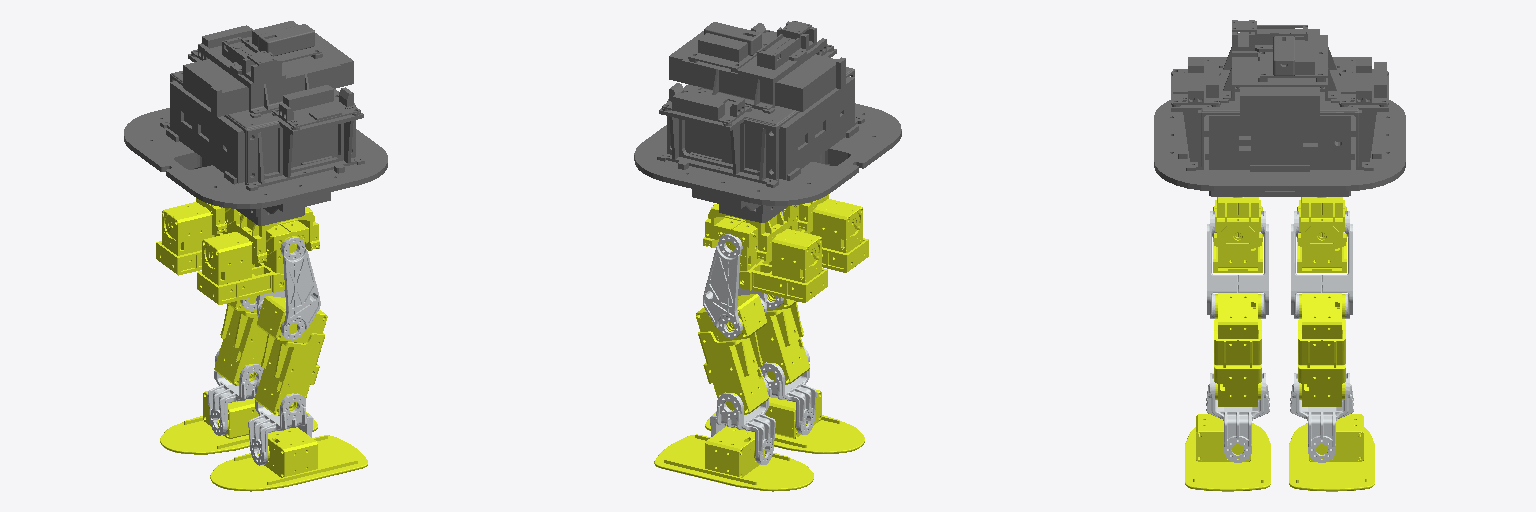
robot.urdf — exhx5_w_b_16:
<?xml version="1.0" encoding="utf-8"?>
<!-- This URDF was automatically created by SolidWorks to URDF Exporter! Originally created by [author] ([email redacted]) 
     Commit Version: 1.5.1-0-g916b5db  Build Version: 1.5.7152.31018
     For more information, please see http://wiki.ros.org/sw_urdf_exporter -->
<robot
  name="exhx5_w_b_16">
  <link
    name="body_link">
    <inertial>
      <origin
        xyz="0.00043545 0.00025536 0.10071"
        rpy="0 0 0" />
      <mass
        value="1.8238" />
      <inertia
        ixx="0.0025905"
        ixy="-5.6852E-06"
        ixz="-1.3106E-05"
        iyy="0.0024595"
        iyz="-1.261E-06"
        izz="0.0046407" />
    </inertial>
    <visual>
      <origin
        xyz="0 0 0"
        rpy="0 0 0" />
      <geometry>
        <mesh
          filename="../meshes/body_link.STL" />
      </geometry>
      <material
        name="">
        <color
          rgba="0.49804 0.49804 0.49804 1" />
      </material>
    </visual>
    <collision>
      <origin
        xyz="0 0 0"
        rpy="0 0 0" />
      <geometry>
        <mesh
          filename="../meshes/body_link.STL" />
      </geometry>
    </collision>
  </link>

  <link
    name="imu_link">
    <inertial>
      <origin
        xyz="-0.008387 1.336E-17 -0.0069463"
        rpy="0 0 0" />
      <mass
        value="0.0062931" />
      <inertia
        ixx="3.2242E-07"
        ixy="3.3527E-22"
        ixz="-6.9193E-08"
        iyy="9.2229E-07"
        iyz="-8.0392E-22"
        izz="1.1018E-06" />
    </inertial>
    <visual>
      <origin
        xyz="0 0 0"
        rpy="0 0 0" />
      <geometry>
        <mesh
          filename="../meshes/imu_link.STL" />
      </geometry>
      <material
        name="">
        <color
          rgba="0.79216 0.81961 0.93333 1" />
      </material>
    </visual>
    <collision>
      <origin
        xyz="0 0 0"
        rpy="0 0 0" />
      <geometry>
        <mesh
          filename="../meshes/imu_link.STL" />
      </geometry>
    </collision>
  </link>
  <joint
    name="imu"
    type="fixed">
    <origin
      xyz="0 0 0.0492"
      rpy="0 0 0" />
    <parent
      link="body_link" />
    <child
      link="imu_link" />
    <axis
      xyz="0 0 0" />
    <limit
      lower="-3.14"
      upper="3.14"
      effort="4"
      velocity="4" />
  </joint>
  <link
    name="l_hip_g_link">
    <inertial>
      <origin
        xyz="-0.0043797 -8.6604E-08 0.011813"
        rpy="0 0 0" />
      <mass
        value="0.061008" />
      <inertia
        ixx="1.167E-05"
        ixy="7.1767E-11"
        ixz="9.1442E-09"
        iyy="2.2342E-05"
        iyz="2.5177E-11"
        izz="2.4892E-05" />
    </inertial>
    <visual>
      <origin
        xyz="0 0 0"
        rpy="0 0 0" />
      <geometry>
        <mesh
          filename="../meshes/l_hip_g_link.STL" />
      </geometry>
      <material
        name="">
        <color
          rgba="0.9451 1 0.18431 1" />
      </material>
    </visual>
    <collision>
      <origin
        xyz="0 0 0"
        rpy="0 0 0" />
      <geometry>
        <mesh
          filename="../meshes/l_hip_g_link.STL" />
      </geometry>
    </collision>
  </link>
  <joint
    name="l_hip_g"
    type="fixed">
    <origin
      xyz="0 .035 0"
      rpy="0 0 0" />
    <parent
      link="body_link" />
    <child
      link="l_hip_g_link" />
    <axis
      xyz="0 0 0" />
  </joint>
  <link
    name="l_hip_roll_link">
    <inertial>
      <origin
        xyz="0.013831 0.00033457 0.025453"
        rpy="0 0 0" />
      <mass
        value="0.2969" />
      <inertia
        ixx="7.8136E-05"
        ixy="7.265E-07"
        ixz="-6.9809E-08"
        iyy="9.2183E-05"
        iyz="-5.6881E-11"
        izz="7.1034E-05" />
    </inertial>
    <visual>
      <origin
        xyz="0 0 0"
        rpy="0 0 0" />
      <geometry>
        <mesh
          filename="../meshes/l_hip_roll_link.STL" />
      </geometry>
      <material
        name="">
        <color
          rgba="0.9451 1 0.18431 1" />
      </material>
    </visual>
    <collision>
      <origin
        xyz="0 0 0"
        rpy="0 0 0" />
      <geometry>
        <mesh
          filename="../meshes/l_hip_roll_link.STL" />
      </geometry>
    </collision>
  </link>
  <joint
    name="l_hip_roll"
    type="revolute">
    <origin
      xyz="0 0 0"
      rpy="3.1416 1.5708 0" />
    <parent
      link="l_hip_g_link" />
    <child
      link="l_hip_roll_link" />
    <axis
      xyz="0 0 1" />
    <limit
      lower="-3.14"
      upper="3.14"
      effort="4"
      velocity="4" />
  </joint>
  <link
    name="l_hip_pitch_link">
    <inertial>
      <origin
        xyz="0.041225 -0.007321 -5.0713E-08"
        rpy="0 0 0" />
      <mass
        value="0.051592" />
      <inertia
        ixx="2.7959E-05"
        ixy="2.0752E-06"
        ixz="-8.0934E-11"
        iyy="4.8156E-05"
        iyz="3.6317E-11"
        izz="2.9604E-05" />
    </inertial>
    <visual>
      <origin
        xyz="0 0 0"
        rpy="0 0 0" />
      <geometry>
        <mesh
          filename="../meshes/l_hip_pitch_link.STL" />
      </geometry>
      <material
        name="">
        <color
          rgba="0.89804 0.91765 0.92941 1" />
      </material>
    </visual>
    <collision>
      <origin
        xyz="0 0 0"
        rpy="0 0 0" />
      <geometry>
        <mesh
          filename="../meshes/l_hip_pitch_link.STL" />
      </geometry>
    </collision>
  </link>
  <joint
    name="l_hip_pitch"
    type="revolute">
    <origin
      xyz="0 0 0"
      rpy="1.5708 0 0" />
    <parent
      link="l_hip_roll_link" />
    <child
      link="l_hip_pitch_link" />
    <axis
      xyz="0 0 1" />
    <limit
      lower="-3.14"
      upper="3.14"
      effort="4"
      velocity="4" />
  </joint>
  <link
    name="l_knee_link">
    <inertial>
      <origin
        xyz="0.033756 -0.0084189 -6.6115E-09"
        rpy="0 0 0" />
      <mass
        value="0.28878" />
      <inertia
        ixx="6.6724E-05"
        ixy="7.5004E-07"
        ixz="-8.4578E-07"
        iyy="6.5699E-05"
        iyz="4.1085E-07"
        izz="7.0381E-05" />
    </inertial>
    <visual>
      <origin
        xyz="0 0 0"
        rpy="0 0 0" />
      <geometry>
        <mesh
          filename="../meshes/l_knee_link.STL" />
      </geometry>
      <material
        name="">
        <color
          rgba="0.9451 1 0.18431 1" />
      </material>
    </visual>
    <collision>
      <origin
        xyz="0 0 0"
        rpy="0 0 0" />
      <geometry>
        <mesh
          filename="../meshes/l_knee_link.STL" />
      </geometry>
    </collision>
  </link>
  <joint
    name="l_knee"
    type="revolute">
    <origin
      xyz="0.075954 0 0"
      rpy="0 0 0" />
    <parent
      link="l_hip_pitch_link" />
    <child
      link="l_knee_link" />
    <axis
      xyz="0 0 1" />
    <limit
      lower="-3.14"
      upper="3.14"
      effort="4"
      velocity="4" />
  </joint>
  <link
    name="l_ank_pitch_link">
    <inertial>
      <origin
        xyz="0.022786 -7.3909E-09 -7.1981E-06"
        rpy="0 0 0" />
      <mass
        value="0.044772" />
      <inertia
        ixx="1.777E-05"
        ixy="8.555E-14"
        ixz="-3.3713E-09"
        iyy="1.7119E-05"
        iyz="1.7593E-11"
        izz="1.8661E-05" />
    </inertial>
    <visual>
      <origin
        xyz="0 0 0"
        rpy="0 0 0" />
      <geometry>
        <mesh
          filename="../meshes/l_ank_pitch_link.STL" />
      </geometry>
      <material
        name="">
        <color
          rgba="0.89804 0.91765 0.92941 1" />
      </material>
    </visual>
    <collision>
      <origin
        xyz="0 0 0"
        rpy="0 0 0" />
      <geometry>
        <mesh
          filename="../meshes/l_ank_pitch_link.STL" />
      </geometry>
    </collision>
  </link>
  <joint
    name="l_ank_pitch"
    type="revolute">
    <origin
      xyz="0.074602 0 0"
      rpy="3.1416 0 0" />
    <parent
      link="l_knee_link" />
    <child
      link="l_ank_pitch_link" />
    <axis
      xyz="0 0 1" />
    <limit
      lower="-3.14"
      upper="3.14"
      effort="4"
      velocity="4" />
  </joint>
  <link
    name="l_ank_roll_link">
    <inertial>
      <origin
        xyz="0.0047069 0.010728 0.0015299"
        rpy="0 0 0" />
      <mass
        value="0.16774" />
      <inertia
        ixx="0.00012039"
        ixy="-3.7428E-09"
        ixz="4.4069E-08"
        iyy="8.7735E-05"
        iyz="7.0469E-07"
        izz="4.7866E-05" />
    </inertial>
    <visual>
      <origin
        xyz="0 0 0"
        rpy="0 0 0" />
      <geometry>
        <mesh
          filename="../meshes/l_ank_roll_link.STL" />
      </geometry>
      <material
        name="">
        <color
          rgba="0.9451 1 0.18431 1" />
      </material>
    </visual>
    <collision>
      <origin
        xyz="0 0 0"
        rpy="0 0 0" />
      <geometry>
        <mesh
          filename="../meshes/l_ank_roll_link.STL" />
      </geometry>
    </collision>
  </link>
  <joint
    name="l_ank_roll"
    type="revolute">
    <origin
      xyz="0.0465 0 0"
      rpy="-1.5708 0 0" />
    <parent
      link="l_ank_pitch_link" />
    <child
      link="l_ank_roll_link" />
    <axis
      xyz="0 0 1" />
    <limit
      lower="-3.14"
      upper="3.14"
      effort="4"
      velocity="4" />
  </joint>
  <link
    name="r_hip_g_link">
    <inertial>
      <origin
        xyz="-0.0043797 -8.6604E-08 0.011813"
        rpy="0 0 0" />
      <mass
        value="0.061008" />
      <inertia
        ixx="1.167E-05"
        ixy="7.1767E-11"
        ixz="9.1442E-09"
        iyy="2.2342E-05"
        iyz="2.5177E-11"
        izz="2.4892E-05" />
    </inertial>
    <visual>
      <origin
        xyz="0 0 0"
        rpy="0 0 0" />
      <geometry>
        <mesh
          filename="../meshes/r_hip_g_link.STL" />
      </geometry>
      <material
        name="">
        <color
          rgba="0.9451 1 0.18431 1" />
      </material>
    </visual>
    <collision>
      <origin
        xyz="0 0 0"
        rpy="0 0 0" />
      <geometry>
        <mesh
          filename="../meshes/r_hip_g_link.STL" />
      </geometry>
    </collision>
  </link>
  <joint
    name="r_hip_g"
    type="fixed">
    <origin
      xyz="0 -.035 0"
      rpy="0 0 0" />
    <parent
      link="body_link" />
    <child
      link="r_hip_g_link" />
    <axis
      xyz="0 0 0" />
  </joint>
  <link
    name="r_hip_roll_link">
    <inertial>
      <origin
        xyz="0.013831 0.00033457 0.025453"
        rpy="0 0 0" />
      <mass
        value="0.2969" />
      <inertia
        ixx="7.8136E-05"
        ixy="7.265E-07"
        ixz="-6.9809E-08"
        iyy="9.2183E-05"
        iyz="-5.6881E-11"
        izz="7.1034E-05" />
    </inertial>
    <visual>
      <origin
        xyz="0 0 0"
        rpy="0 0 0" />
      <geometry>
        <mesh
          filename="../meshes/r_hip_roll_link.STL" />
      </geometry>
      <material
        name="">
        <color
          rgba="0.9451 1 0.18431 1" />
      </material>
    </visual>
    <collision>
      <origin
        xyz="0 0 0"
        rpy="0 0 0" />
      <geometry>
        <mesh
          filename="../meshes/r_hip_roll_link.STL" />
      </geometry>
    </collision>
  </link>
  <joint
    name="r_hip_roll"
    type="revolute">
    <origin
      xyz="0 0 0"
      rpy="3.1416 1.5708 0" />
    <parent
      link="r_hip_g_link" />
    <child
      link="r_hip_roll_link" />
    <axis
      xyz="0 0 1" />
    <limit
      lower="-3.14"
      upper="3.14"
      effort="4"
      velocity="4" />
  </joint>
  <link
    name="r_hip_pitch_link">
    <inertial>
      <origin
        xyz="0.041225 0.007321 5.0713E-08"
        rpy="0 0 0" />
      <mass
        value="0.051592" />
      <inertia
        ixx="2.7959E-05"
        ixy="-2.0752E-06"
        ixz="8.0934E-11"
        iyy="4.8156E-05"
        iyz="3.6317E-11"
        izz="2.9604E-05" />
    </inertial>
    <visual>
      <origin
        xyz="0 0 0"
        rpy="0 0 0" />
      <geometry>
        <mesh
          filename="../meshes/r_hip_pitch_link.STL" />
      </geometry>
      <material
        name="">
        <color
          rgba="0.89804 0.91765 0.92941 1" />
      </material>
    </visual>
    <collision>
      <origin
        xyz="0 0 0"
        rpy="0 0 0" />
      <geometry>
        <mesh
          filename="../meshes/r_hip_pitch_link.STL" />
      </geometry>
    </collision>
  </link>
  <joint
    name="r_hip_pitch"
    type="revolute">
    <origin
      xyz="0 0 0"
      rpy="-1.5708 0 0" />
    <parent
      link="r_hip_roll_link" />
    <child
      link="r_hip_pitch_link" />
    <axis
      xyz="0 0 1" />
    <limit
      lower="-3.14"
      upper="3.14"
      effort="4"
      velocity="4" />
  </joint>
  <link
    name="r_knee_link">
    <inertial>
      <origin
        xyz="0.033757 0.0084176 6.6115E-09"
        rpy="0 0 0" />
      <mass
        value="0.28878" />
      <inertia
        ixx="6.6724E-05"
        ixy="-7.5008E-07"
        ixz="8.458E-07"
        iyy="6.5699E-05"
        iyz="4.1081E-07"
        izz="7.0381E-05" />
    </inertial>
    <visual>
      <origin
        xyz="0 0 0"
        rpy="0 0 0" />
      <geometry>
        <mesh
          filename="../meshes/r_knee_link.STL" />
      </geometry>
      <material
        name="">
        <color
          rgba="0.9451 1 0.18431 1" />
      </material>
    </visual>
    <collision>
      <origin
        xyz="0 0 0"
        rpy="0 0 0" />
      <geometry>
        <mesh
          filename="../meshes/r_knee_link.STL" />
      </geometry>
    </collision>
  </link>
  <joint
    name="r_knee"
    type="revolute">
    <origin
      xyz="0.075954 0 0"
      rpy="0 0 0" />
    <parent
      link="r_hip_pitch_link" />
    <child
      link="r_knee_link" />
    <axis
      xyz="0 0 1" />
    <limit
      lower="-3.14"
      upper="3.14"
      effort="4"
      velocity="4" />
  </joint>
  <link
    name="r_ank_pitch_link">
    <inertial>
      <origin
        xyz="0.025786 -7.3887E-09 -7.1981E-06"
        rpy="0 0 0" />
      <mass
        value="0.044772" />
      <inertia
        ixx="1.777E-05"
        ixy="8.5434E-14"
        ixz="-3.3713E-09"
        iyy="1.7119E-05"
        iyz="1.7592E-11"
        izz="1.8661E-05" />
    </inertial>
    <visual>
      <origin
        xyz="0 0 0"
        rpy="0 0 0" />
      <geometry>
        <mesh
          filename="../meshes/r_ank_pitch_link.STL" />
      </geometry>
      <material
        name="">
        <color
          rgba="0.89804 0.91765 0.92941 1" />
      </material>
    </visual>
    <collision>
      <origin
        xyz="0 0 0"
        rpy="0 0 0" />
      <geometry>
        <mesh
          filename="../meshes/r_ank_pitch_link.STL" />
      </geometry>
    </collision>
  </link>
  <joint
    name="r_ank_pitch"
    type="revolute">
    <origin
      xyz="0.071602 0 0"
      rpy="3.1416 0 0" />
    <parent
      link="r_knee_link" />
    <child
      link="r_ank_pitch_link" />
    <axis
      xyz="0 0 1" />
    <limit
      lower="-3.14"
      upper="3.14"
      effort="4"
      velocity="4" />
  </joint>
  <link
    name="r_ank_roll_link">
    <inertial>
      <origin
        xyz="0.0077069 -0.010728 0.0015299"
        rpy="0 0 0" />
      <mass
        value="0.16774" />
      <inertia
        ixx="0.00012039"
        ixy="3.743E-09"
        ixz="4.407E-08"
        iyy="8.7735E-05"
        iyz="-7.0467E-07"
        izz="4.7866E-05" />
    </inertial>
    <visual>
      <origin
        xyz="0 0 0"
        rpy="0 0 0" />
      <geometry>
        <mesh
          filename="../meshes/r_ank_roll_link.STL" />
      </geometry>
      <material
        name="">
        <color
          rgba="0.9451 1 0.18431 1" />
      </material>
    </visual>
    <collision>
      <origin
        xyz="0 0 0"
        rpy="0 0 0" />
      <geometry>
        <mesh
          filename="../meshes/r_ank_roll_link.STL" />
      </geometry>
    </collision>
  </link>
  <joint
    name="r_ank_roll"
    type="revolute">
    <origin
      xyz="0.0465 0 0"
      rpy="1.5708 0 0" />
    <parent
      link="r_ank_pitch_link" />
    <child
      link="r_ank_roll_link" />
    <axis
      xyz="0 0 1" />
    <limit
      lower="-3.14"
      upper="3.14"
      effort="4"
      velocity="4" />
  </joint>
  <transmission name="r_hip_roll_tran">
    <type>transmission_interface/SimpleTransmission</type>
    <joint name="r_hip_roll">
      <hardwareInterface>hardware_interface/EffortJointInterface</hardwareInterface>
    </joint>
    <actuator name="r_hip_roll_motor">
      <hardwareInterface>hardware_interface/EffortJointInterface</hardwareInterface>
      <mechanicalReduction>1</mechanicalReduction>
    </actuator>
  </transmission>
  <transmission name="r_hip_pitch_tran">
    <type>transmission_interface/SimpleTransmission</type>
    <joint name="r_hip_pitch">
      <hardwareInterface>hardware_interface/EffortJointInterface</hardwareInterface>
    </joint>
    <actuator name="r_hip_pitch_motor">
      <hardwareInterface>hardware_interface/EffortJointInterface</hardwareInterface>
      <mechanicalReduction>1</mechanicalReduction>
    </actuator>
  </transmission>
  <transmission name="r_knee_tran">
    <type>transmission_interface/SimpleTransmission</type>
    <joint name="r_knee">
      <hardwareInterface>hardware_interface/EffortJointInterface</hardwareInterface>
    </joint>
    <actuator name="r_knee_motor">
      <hardwareInterface>hardware_interface/EffortJointInterface</hardwareInterface>
      <mechanicalReduction>1</mechanicalReduction>
    </actuator>
  </transmission>
  <transmission name="r_ank_pitch_tran">
    <type>transmission_interface/SimpleTransmission</type>
    <joint name="r_ank_pitch">
      <hardwareInterface>hardware_interface/EffortJointInterface</hardwareInterface>
    </joint>
    <actuator name="r_ank_pitch_motor">
      <hardwareInterface>hardware_interface/EffortJointInterface</hardwareInterface>
      <mechanicalReduction>1</mechanicalReduction>
    </actuator>
  </transmission>
  <transmission name="r_ank_roll_tran">
    <type>transmission_interface/SimpleTransmission</type>
    <joint name="r_ank_roll">
      <hardwareInterface>hardware_interface/EffortJointInterface</hardwareInterface>
    </joint>
    <actuator name="r_ank_roll_motor">
      <hardwareInterface>hardware_interface/EffortJointInterface</hardwareInterface>
      <mechanicalReduction>1</mechanicalReduction>
    </actuator>
  </transmission>
  <transmission name="l_hip_roll_tran">
    <type>transmission_interface/SimpleTransmission</type>
    <joint name="l_hip_roll">
      <hardwareInterface>hardware_interface/EffortJointInterface</hardwareInterface>
    </joint>
    <actuator name="l_hip_roll_motor">
      <hardwareInterface>hardware_interface/EffortJointInterface</hardwareInterface>
      <mechanicalReduction>1</mechanicalReduction>
    </actuator>
  </transmission>
  <transmission name="l_hip_pitch_tran">
    <type>transmission_interface/SimpleTransmission</type>
    <joint name="l_hip_pitch">
      <hardwareInterface>hardware_interface/EffortJointInterface</hardwareInterface>
    </joint>
    <actuator name="l_hip_pitch_motor">
      <hardwareInterface>hardware_interface/EffortJointInterface</hardwareInterface>
      <mechanicalReduction>1</mechanicalReduction>
    </actuator>
  </transmission>
  <transmission name="l_knee_tran">
    <type>transmission_interface/SimpleTransmission</type>
    <joint name="l_knee">
      <hardwareInterface>hardware_interface/EffortJointInterface</hardwareInterface>
    </joint>
    <actuator name="l_knee_motor">
      <hardwareInterface>hardware_interface/EffortJointInterface</hardwareInterface>
      <mechanicalReduction>1</mechanicalReduction>
    </actuator>
  </transmission>
  <transmission name="l_ank_pitch_tran">
    <type>transmission_interface/SimpleTransmission</type>
    <joint name="l_ank_pitch">
      <hardwareInterface>hardware_interface/EffortJointInterface</hardwareInterface>
    </joint>
    <actuator name="l_ank_pitch_motor">
      <hardwareInterface>hardware_interface/EffortJointInterface</hardwareInterface>
      <mechanicalReduction>1</mechanicalReduction>
    </actuator>
  </transmission>
  <transmission name="l_ank_roll_tran">
    <type>transmission_interface/SimpleTransmission</type>
    <joint name="l_ank_roll">
      <hardwareInterface>hardware_interface/EffortJointInterface</hardwareInterface>
    </joint>
    <actuator name="l_ank_roll_motor">
      <hardwareInterface>hardware_interface/EffortJointInterface</hardwareInterface>
      <mechanicalReduction>1</mechanicalReduction>
    </actuator>
  </transmission>
</robot>

--- Render facts (derived) ---
Views: 3 orthographic renders of the robot side by side, from view 1: azimuth 30°, elevation 25°; view 2: azimuth 150°, elevation 25°; view 3: azimuth 270°, elevation 25°.
Robot: exhx5_w_b_16 — 14 links, 13 joints (10 revolute, 3 fixed); root link body_link; default pose: all joints at 0.
Links seen in each view (by area): view 1: body_link, r_ank_roll_link, r_hip_roll_link, r_knee_link, l_hip_roll_link, l_ank_roll_link, r_hip_pitch_link, l_knee_link, r_ank_pitch_link, l_ank_pitch_link, r_hip_g_link; view 2: body_link, l_ank_roll_link, l_hip_roll_link, l_knee_link, r_hip_roll_link, r_ank_roll_link, l_hip_pitch_link, r_knee_link, l_ank_pitch_link, r_ank_pitch_link, l_hip_g_link; view 3: body_link, l_knee_link, r_knee_link, l_ank_roll_link, r_ank_roll_link, l_hip_g_link, r_hip_g_link, l_ank_pitch_link, r_ank_pitch_link, l_hip_pitch_link, r_hip_pitch_link, l_hip_roll_link (+1 smaller).
Boxes of the visible links, x1,y1,x2,y2 form: body_link: (124,21,387,225); r_ank_roll_link: (210,427,367,491); r_hip_roll_link: (197,219,308,304); r_knee_link: (255,296,327,415); l_hip_roll_link: (156,202,241,275); l_ank_roll_link: (160,391,317,454); r_hip_pitch_link: (256,237,320,340); l_knee_link: (214,296,267,385); r_ank_pitch_link: (248,379,312,465); l_ank_pitch_link: (208,349,263,435); r_hip_g_link: (236,207,319,264); body_link: (634,21,901,222); l_ank_roll_link: (654,426,813,491); l_hip_roll_link: (714,216,827,302); l_knee_link: (696,294,768,414); r_hip_roll_link: (782,199,868,272); r_ank_roll_link: (705,390,864,453); l_hip_pitch_link: (703,234,767,338); r_knee_link: (756,294,809,384); l_ank_pitch_link: (710,377,775,464); r_ank_pitch_link: (760,347,816,434); l_hip_g_link: (703,204,787,261); body_link: (1154,20,1405,196); l_knee_link: (1298,293,1345,406); r_knee_link: (1214,293,1261,406); l_ank_roll_link: (1289,414,1374,491); r_ank_roll_link: (1185,414,1270,491); l_hip_g_link: (1297,197,1346,247); r_hip_g_link: (1213,197,1262,247); l_ank_pitch_link: (1290,373,1353,462); r_ank_pitch_link: (1206,373,1269,462); l_hip_pitch_link: (1291,211,1352,318); r_hip_pitch_link: (1207,211,1268,318); l_hip_roll_link: (1297,200,1346,272).
Size in the robot's own frame: 0.185 by 0.21 by 0.3893 metres.
Meshes: 14 distinct files referenced, 14 mesh visuals loaded (14 binary STL).